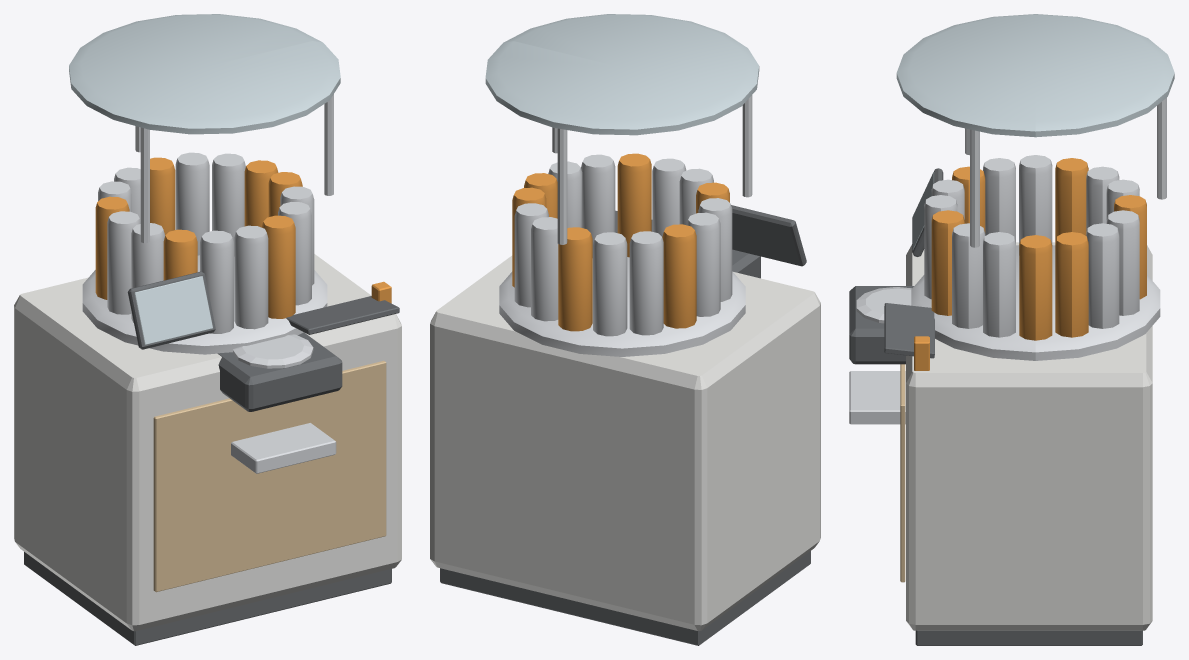
3 views of the same model, side by side, from view 1: azimuth 30°, elevation 25°; view 2: azimuth 150°, elevation 25°; view 3: azimuth 270°, elevation 25° (orthographic).
Parts seen in each view (by area): view 1: paint-mixing-machine; view 2: paint-mixing-machine; view 3: paint-mixing-machine.
Part boxes in pixels (x1=…): paint-mixing-machine: x1=14, y1=14, x2=401, y2=645; paint-mixing-machine: x1=430, y1=14, x2=820, y2=645; paint-mixing-machine: x1=849, y1=14, x2=1174, y2=645.
Bounding box in the file's own units: 1.02 × 1.79 × 1.03.
